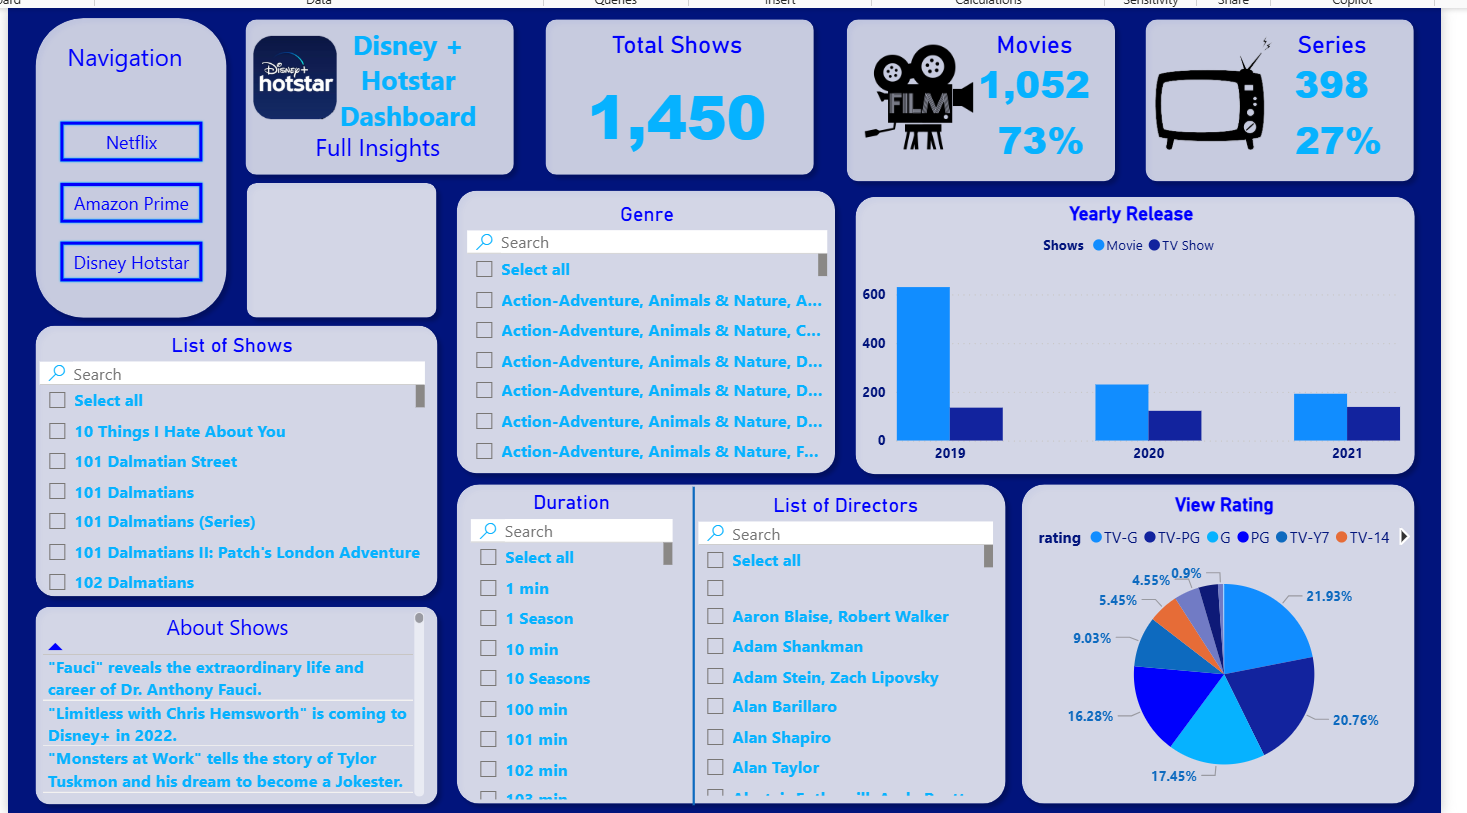

What the dashboard file says about the page in this screenshot:
{"tool":"powerbi","page":{"name":"Disney Hotstar","canvas":[1280,720],"ordinal":2},"visuals":[{"type":"shape","box":[202.8,1.2,257.6,156.9],"z":0},{"type":"shape","box":[15.2,0,188.5,285.7],"z":1000},{"type":"shape","box":[470.9,1.2,257.6,156.9],"z":2000},{"type":"shape","box":[740.1,1.2,257.6,162.7],"z":3000},{"type":"shape","box":[1007.1,1.2,257.6,162.7],"z":4000},{"type":"textbox","box":[34,23.6,141.7,41],"z":5000},{"type":"textbox","box":[269.5,11.7,176.8,112.4],"z":6000},{"type":"textbox","box":[214.5,104.2,231.8,39.8],"z":7000},{"type":"card","title":"Total Shows","fields":{"Values":["All Measures.Shows Hotstar"]},"box":[483.7,19.9,228.3,124.1],"z":8000},{"type":"card","title":"Movies","fields":{"Values":["All Measures.Movies Hot"]},"box":[852.5,19.9,130,71.4],"z":9000},{"type":"card","title":"Male","fields":{"Values":["All Measures.% movies hot"]},"box":[868.9,91.3,108.9,52.7],"z":10000},{"type":"card","title":"Series","fields":{"Values":["All Measures.Series Hot"]},"box":[1118.2,19.6,130,71.4],"z":11000},{"type":"card","title":"Male","fields":{"Values":["All Measures.% series hot"]},"box":[1134.6,91,108.9,52.7],"z":12000},{"type":"image","box":[757.7,28.1,111.2,103],"z":13000},{"type":"image","box":[1019.9,19.9,115.9,111.2],"z":14000},{"type":"image","box":[214.5,19.9,84.3,84.3],"z":15000},{"type":"actionButton","box":[44.5,99.7,131.1,39.8],"z":16000},{"type":"actionButton","box":[44.5,153.6,131.1,39.8],"z":17000},{"type":"actionButton","box":[44.5,206.3,131.1,39.8],"z":18000},{"type":"shape","box":[204.9,147.5,187.3,138.1],"z":19000},{"type":"shape","box":[748.1,159.2,517.5,265.8],"z":20000},{"type":"clusteredColumnChart","title":"Yearly Release","fields":{"Category":["disney_plus_titles.year_added"],"Series":["disney_plus_titles.type"],"Y":["CountNonNull(disney_plus_titles.title)"]},"box":[758.6,173.3,490.5,243.5],"z":21000},{"type":"shape","box":[896.8,416.8,368.8,303.2],"z":22000},{"type":"pieChart","title":"View Rating","fields":{"Y":["CountNonNull(disney_plus_titles.title)"],"Category":["disney_plus_titles.rating"]},"box":[915.5,433.2,341.9,275.1],"z":23000},{"type":"shape","box":[15.2,275.1,377,259.9],"z":24000},{"type":"shape","box":[15.2,525.7,377,194.3],"z":25000},{"type":"shape","box":[392.2,154.5,355.9,270.4],"z":26000},{"type":"shape","box":[392.2,416.8,508.1,303.2],"z":27000},{"type":"slicer","title":"List of Shows","fields":{"Values":["disney_plus_titles.title"]},"box":[23.4,290.3,353.6,235.3],"z":28000},{"type":"slicer","title":"Duration","fields":{"Values":["disney_plus_titles.duration"]},"box":[408.6,430.8,189.7,281],"z":29000},{"type":"tableEx","fields":{"Values":["disney_plus_titles.description"]},"box":[24.6,535,352.4,174.4],"z":30000},{"type":"shape","box":[598.2,427.3,28.1,284.5],"z":31000},{"type":"slicer","title":"Genre","fields":{"Values":["disney_plus_titles.listed_in"]},"box":[405.1,173.3,331.3,243.5],"z":32000},{"type":"slicer","title":"List of Directors","fields":{"Values":["disney_plus_titles.director"]},"box":[612.3,433.2,272.8,275.1],"z":33000}]}

Visuals, with their boxes on the page's 1280x720 design canvas (x1, y1, x2, y2). These are canvas units, not pixel positions in the 1467x813 screenshot, which may show the page scaled, cropped or inside an application window:
shape: 203, 1, 460, 158
shape: 15, 0, 204, 286
shape: 471, 1, 728, 158
shape: 740, 1, 998, 164
shape: 1007, 1, 1265, 164
textbox: 34, 24, 176, 65
textbox: 270, 12, 446, 124
textbox: 214, 104, 446, 144
"Total Shows" card: 484, 20, 712, 144
"Movies" card: 852, 20, 982, 91
"Male" card: 869, 91, 978, 144
"Series" card: 1118, 20, 1248, 91
"Male" card: 1135, 91, 1244, 144
image: 758, 28, 869, 131
image: 1020, 20, 1136, 131
image: 214, 20, 299, 104
actionButton: 44, 100, 176, 140
actionButton: 44, 154, 176, 193
actionButton: 44, 206, 176, 246
shape: 205, 148, 392, 286
shape: 748, 159, 1266, 425
"Yearly Release" clusteredColumnChart: 759, 173, 1249, 417
shape: 897, 417, 1266, 720
"View Rating" pieChart: 916, 433, 1257, 708
shape: 15, 275, 392, 535
shape: 15, 526, 392, 720
shape: 392, 154, 748, 425
shape: 392, 417, 900, 720
"List of Shows" slicer: 23, 290, 377, 526
"Duration" slicer: 409, 431, 598, 712
tableEx - disney_plus_titles.description: 25, 535, 377, 709
shape: 598, 427, 626, 712
"Genre" slicer: 405, 173, 736, 417
"List of Directors" slicer: 612, 433, 885, 708
